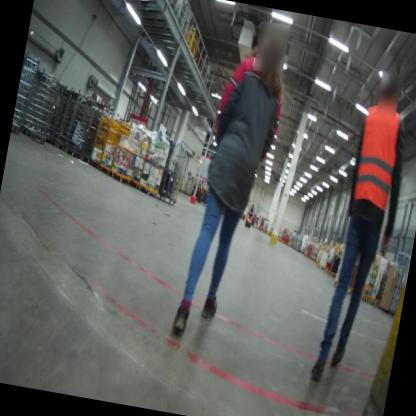pallet_truck: (240, 198, 258, 227)
